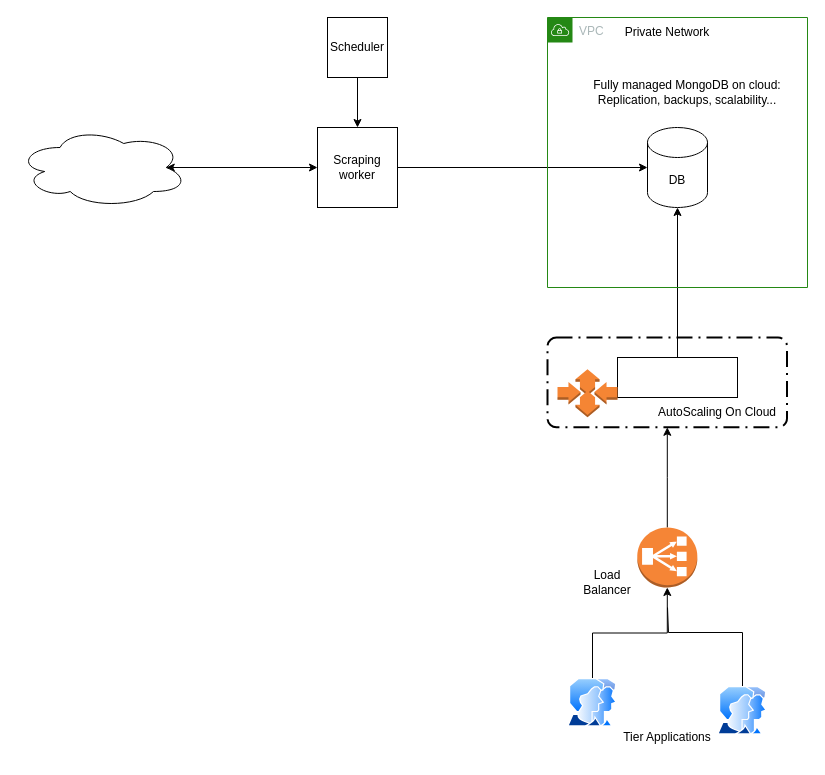
The diagram is 825 pixels wide and 775 high, and some of its shapes have lost their labels. Each missing label, with the centre of its shape:
"API App" goes at point (677, 377).
"www.theguardian.com" goes at point (102, 167).
